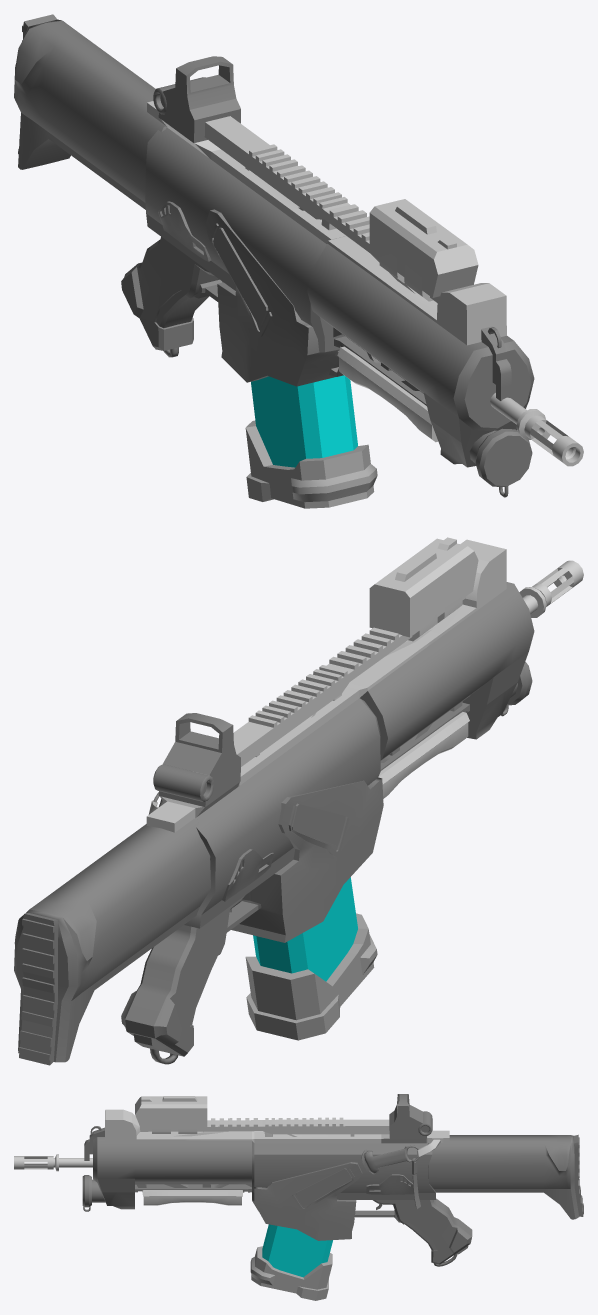
The model's file is Sci-fi Rifle 2.fbx.
3 renders of one model, top to bottom at view 1: azimuth 30°, elevation 25°; view 2: azimuth 150°, elevation 25°; view 3: azimuth 270°, elevation 25°, orthographic. The views are drawn at different scales.
Visible parts, largest first — view 1: Sci_fi_Rifle_2_pt1, Sci_fi_Rifle_2_pt0, Sci_fi_Rifle_2_Ammo; view 2: Sci_fi_Rifle_2_pt1, Sci_fi_Rifle_2_pt0, Sci_fi_Rifle_2_Ammo; view 3: Sci_fi_Rifle_2_pt1, Sci_fi_Rifle_2_pt0, Sci_fi_Rifle_2_Ammo.
Boxes of the visible parts, x1=… form: Sci_fi_Rifle_2_pt1: x1=14, y1=14, x2=534, y2=497; Sci_fi_Rifle_2_pt0: x1=147, y1=101, x2=583, y2=466; Sci_fi_Rifle_2_Ammo: x1=245, y1=375, x2=377, y2=508; Sci_fi_Rifle_2_pt1: x1=14, y1=582, x2=534, y2=1065; Sci_fi_Rifle_2_pt0: x1=146, y1=537, x2=583, y2=832; Sci_fi_Rifle_2_Ammo: x1=245, y1=877, x2=377, y2=1040; Sci_fi_Rifle_2_pt1: x1=82, y1=1094, x2=583, y2=1266; Sci_fi_Rifle_2_pt0: x1=14, y1=1096, x2=449, y2=1205; Sci_fi_Rifle_2_Ammo: x1=250, y1=1224, x2=332, y2=1300.
Bounding box in the file's own units: 8.75 × 35.93 × 94.66.
